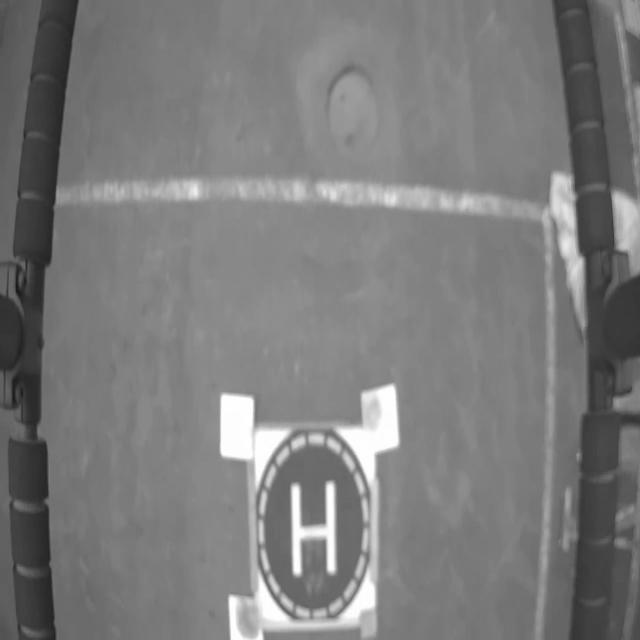Helipad: (290, 477, 338, 580)
